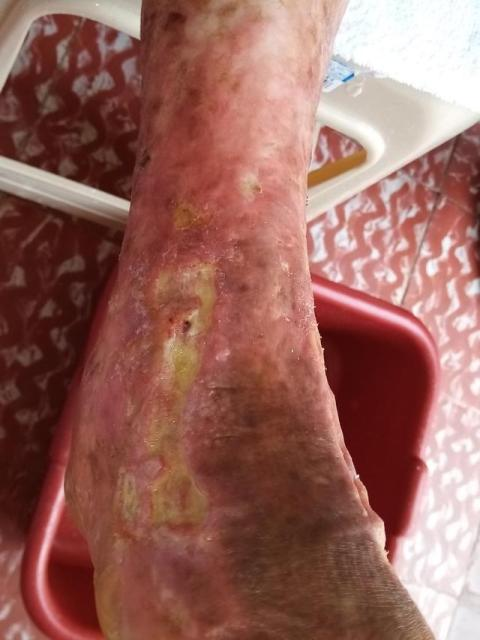wound: (109, 258, 218, 531), (154, 567, 201, 639), (97, 563, 124, 639), (173, 199, 215, 228)
